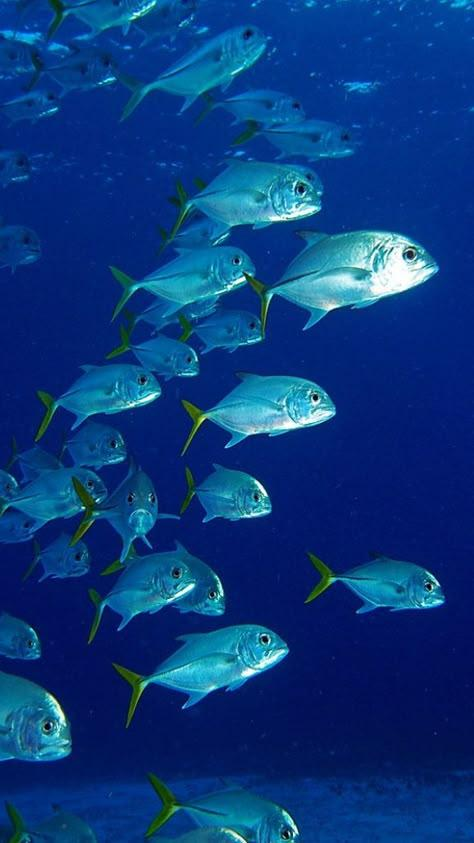fish: (245, 231, 437, 338), (115, 624, 287, 728), (116, 24, 270, 125), (164, 163, 322, 254), (181, 374, 337, 457), (146, 769, 301, 843), (110, 248, 255, 326), (73, 455, 178, 562), (37, 364, 162, 444), (86, 555, 197, 645), (101, 540, 226, 618), (305, 550, 445, 614), (0, 670, 72, 762), (231, 115, 356, 164), (3, 467, 107, 523), (180, 465, 272, 524), (104, 327, 199, 381), (46, 0, 157, 42), (30, 41, 117, 94), (193, 89, 307, 126), (6, 799, 96, 843), (23, 532, 88, 587), (178, 311, 263, 352), (58, 424, 125, 467), (0, 92, 59, 129), (0, 610, 43, 660), (0, 226, 41, 275), (0, 149, 29, 187)
